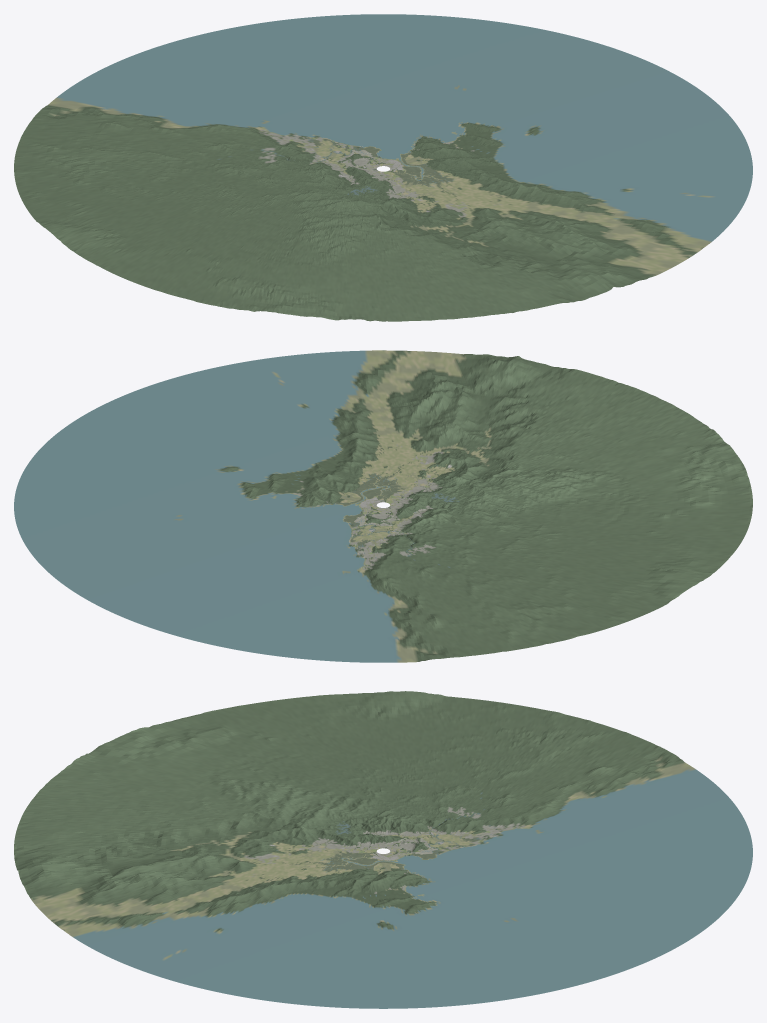
Rendered from cazalys_backdrop.glb.
3 views of the same model, one above another, from view 1: azimuth 30°, elevation 25°; view 2: azimuth 150°, elevation 25°; view 3: azimuth 270°, elevation 25° (orthographic).
Visible parts, largest first — view 1: terrain_shaded; view 2: terrain_shaded; view 3: terrain_shaded.
Boxes of the visible parts, x1,y1,x2,y2 form: terrain_shaded: [14, 14, 752, 321]; terrain_shaded: [14, 350, 752, 662]; terrain_shaded: [14, 691, 752, 1008].
Size of the model in its own units: 110000 by 1680 by 110000.
